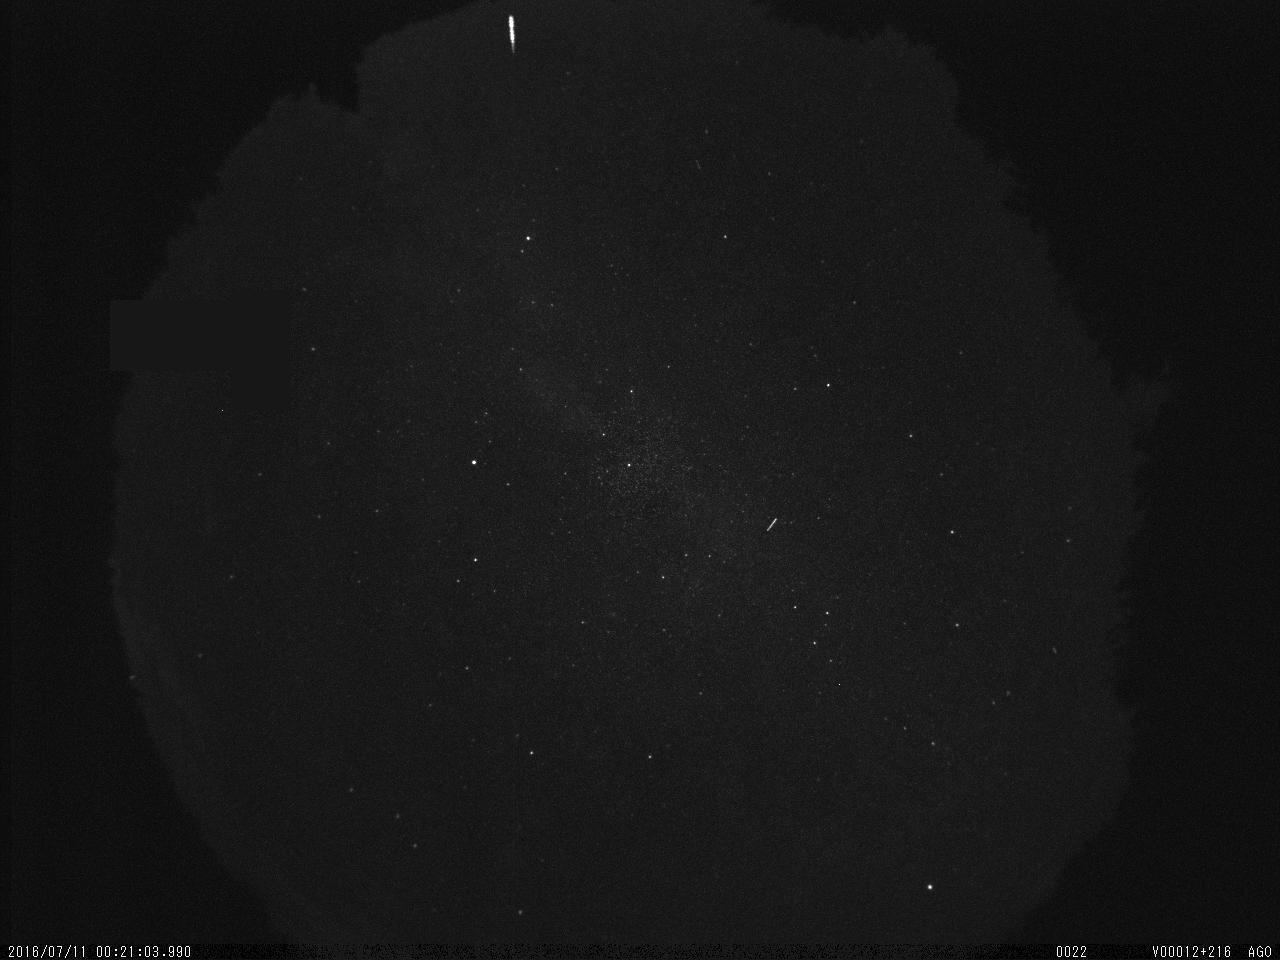Meteor: (504, 13, 518, 55), (763, 515, 778, 533)
